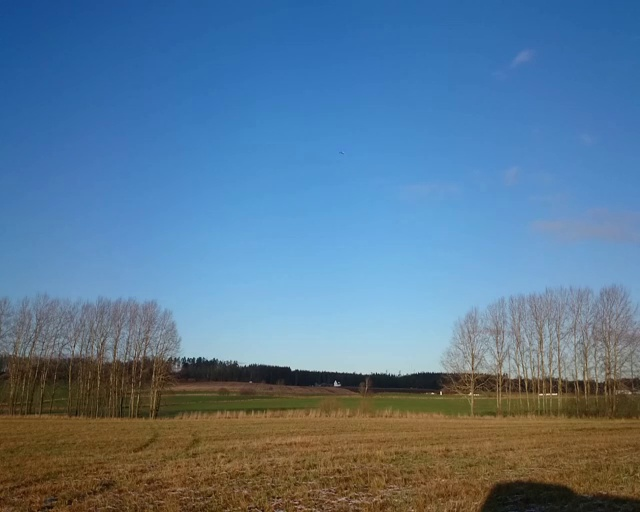DRONE: (338, 148, 346, 156)
